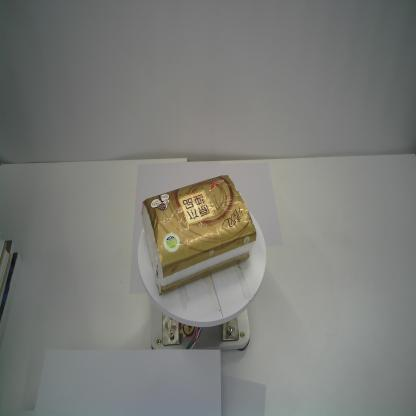Tissue: (142, 175, 256, 296)
